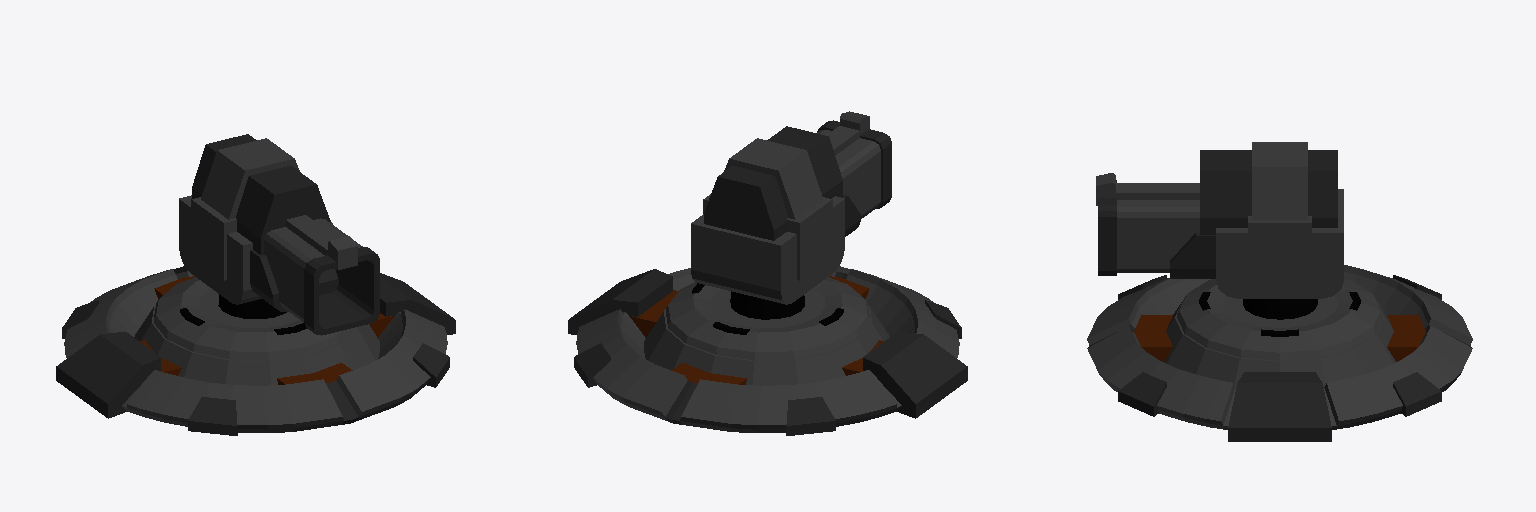
Rendered from Turret_Cannon.obj.
3 renders of one model, left to right at view 1: azimuth 30°, elevation 25°; view 2: azimuth 150°, elevation 25°; view 3: azimuth 270°, elevation 25°, orthographic.
Parts seen in each view (by area): view 1: Turret_Cannon_Base_Cylinder.030, Turret_Cannon_Top_Cylinder.031; view 2: Turret_Cannon_Base_Cylinder.030, Turret_Cannon_Top_Cylinder.031; view 3: Turret_Cannon_Base_Cylinder.030, Turret_Cannon_Top_Cylinder.031.
Boxes of the visible parts, <box> form: Turret_Cannon_Base_Cylinder.030: <box>56,266,455,435</box>; Turret_Cannon_Top_Cylinder.031: <box>179,134,379,335</box>; Turret_Cannon_Base_Cylinder.030: <box>568,266,967,435</box>; Turret_Cannon_Top_Cylinder.031: <box>691,111,891,319</box>; Turret_Cannon_Base_Cylinder.030: <box>1087,265,1472,441</box>; Turret_Cannon_Top_Cylinder.031: <box>1096,142,1343,319</box>.
Bounding box in the file's own units: 1.16 × 0.6472 × 1.11.